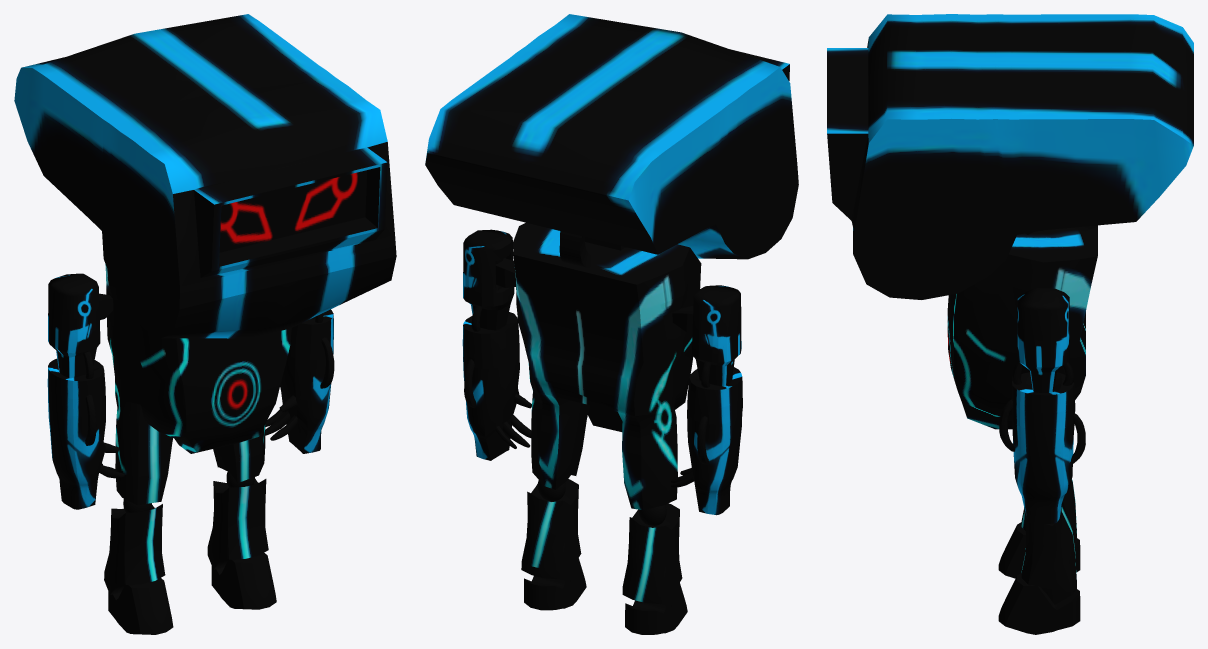
The model's file is rott ultime.fbx.
The picture shows the model from 3 angles, left to right: view 1: azimuth 30°, elevation 25°; view 2: azimuth 150°, elevation 25°; view 3: azimuth 270°, elevation 25°; orthographic projection. The views are drawn at different scales.
Visible parts, largest first — view 1: rott; view 2: rott; view 3: rott.
Boxes of the visible parts, x1=… form: rott: x1=14, y1=14, x2=396, y2=634; rott: x1=425, y1=14, x2=798, y2=634; rott: x1=827, y1=14, x2=1193, y2=634.
Bounding box in the file's own units: 1.79 × 3.36 × 2.04.
Materials: 1 (1 with a texture image).
